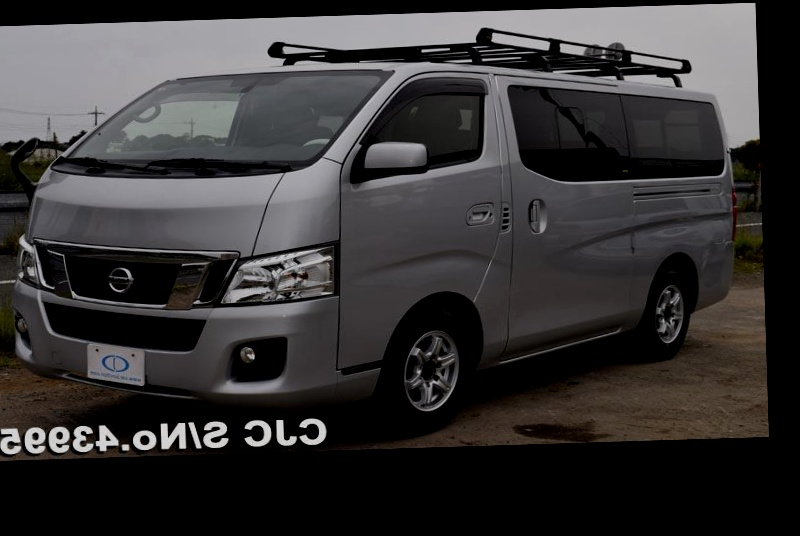van: (0, 52, 734, 425)
